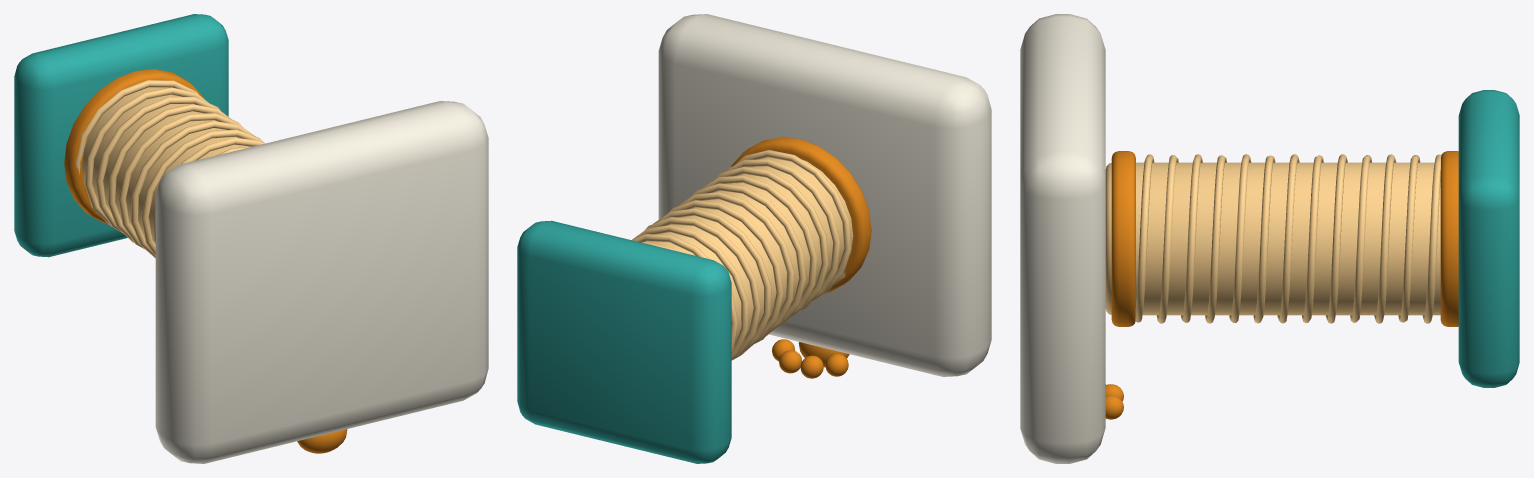
Rendered from RunnerScratchPost.fbx.
3 views of the same model, side by side, from view 1: azimuth 30°, elevation 25°; view 2: azimuth 150°, elevation 25°; view 3: azimuth 270°, elevation 25° (orthographic). The views are drawn at different scales.
Visible parts, largest first — view 1: RunnerScratchPost; view 2: RunnerScratchPost; view 3: RunnerScratchPost.
Boxes of the visible parts, x1=… form: RunnerScratchPost: x1=14, y1=14, x2=488, y2=463; RunnerScratchPost: x1=517, y1=14, x2=991, y2=463; RunnerScratchPost: x1=1020, y1=14, x2=1519, y2=463.
Bounding box in the file's own units: 0.64 × 0.606 × 0.82.
